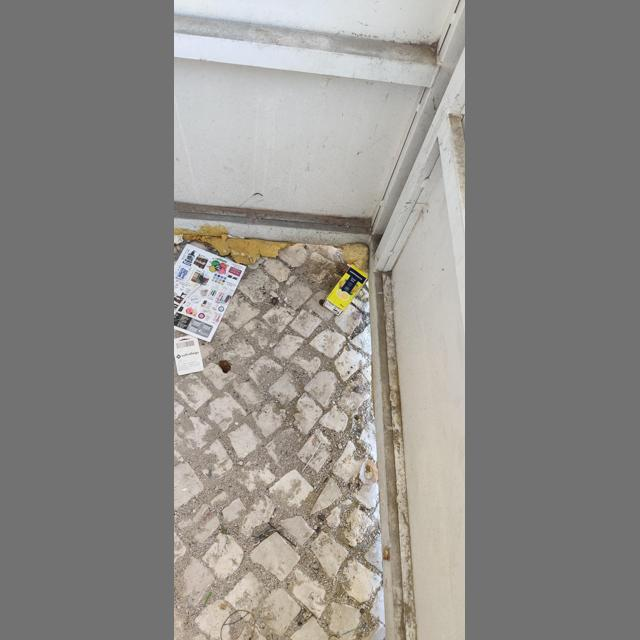litter: (174, 244, 246, 342), (323, 264, 369, 317), (174, 335, 204, 375), (301, 441, 322, 472)
